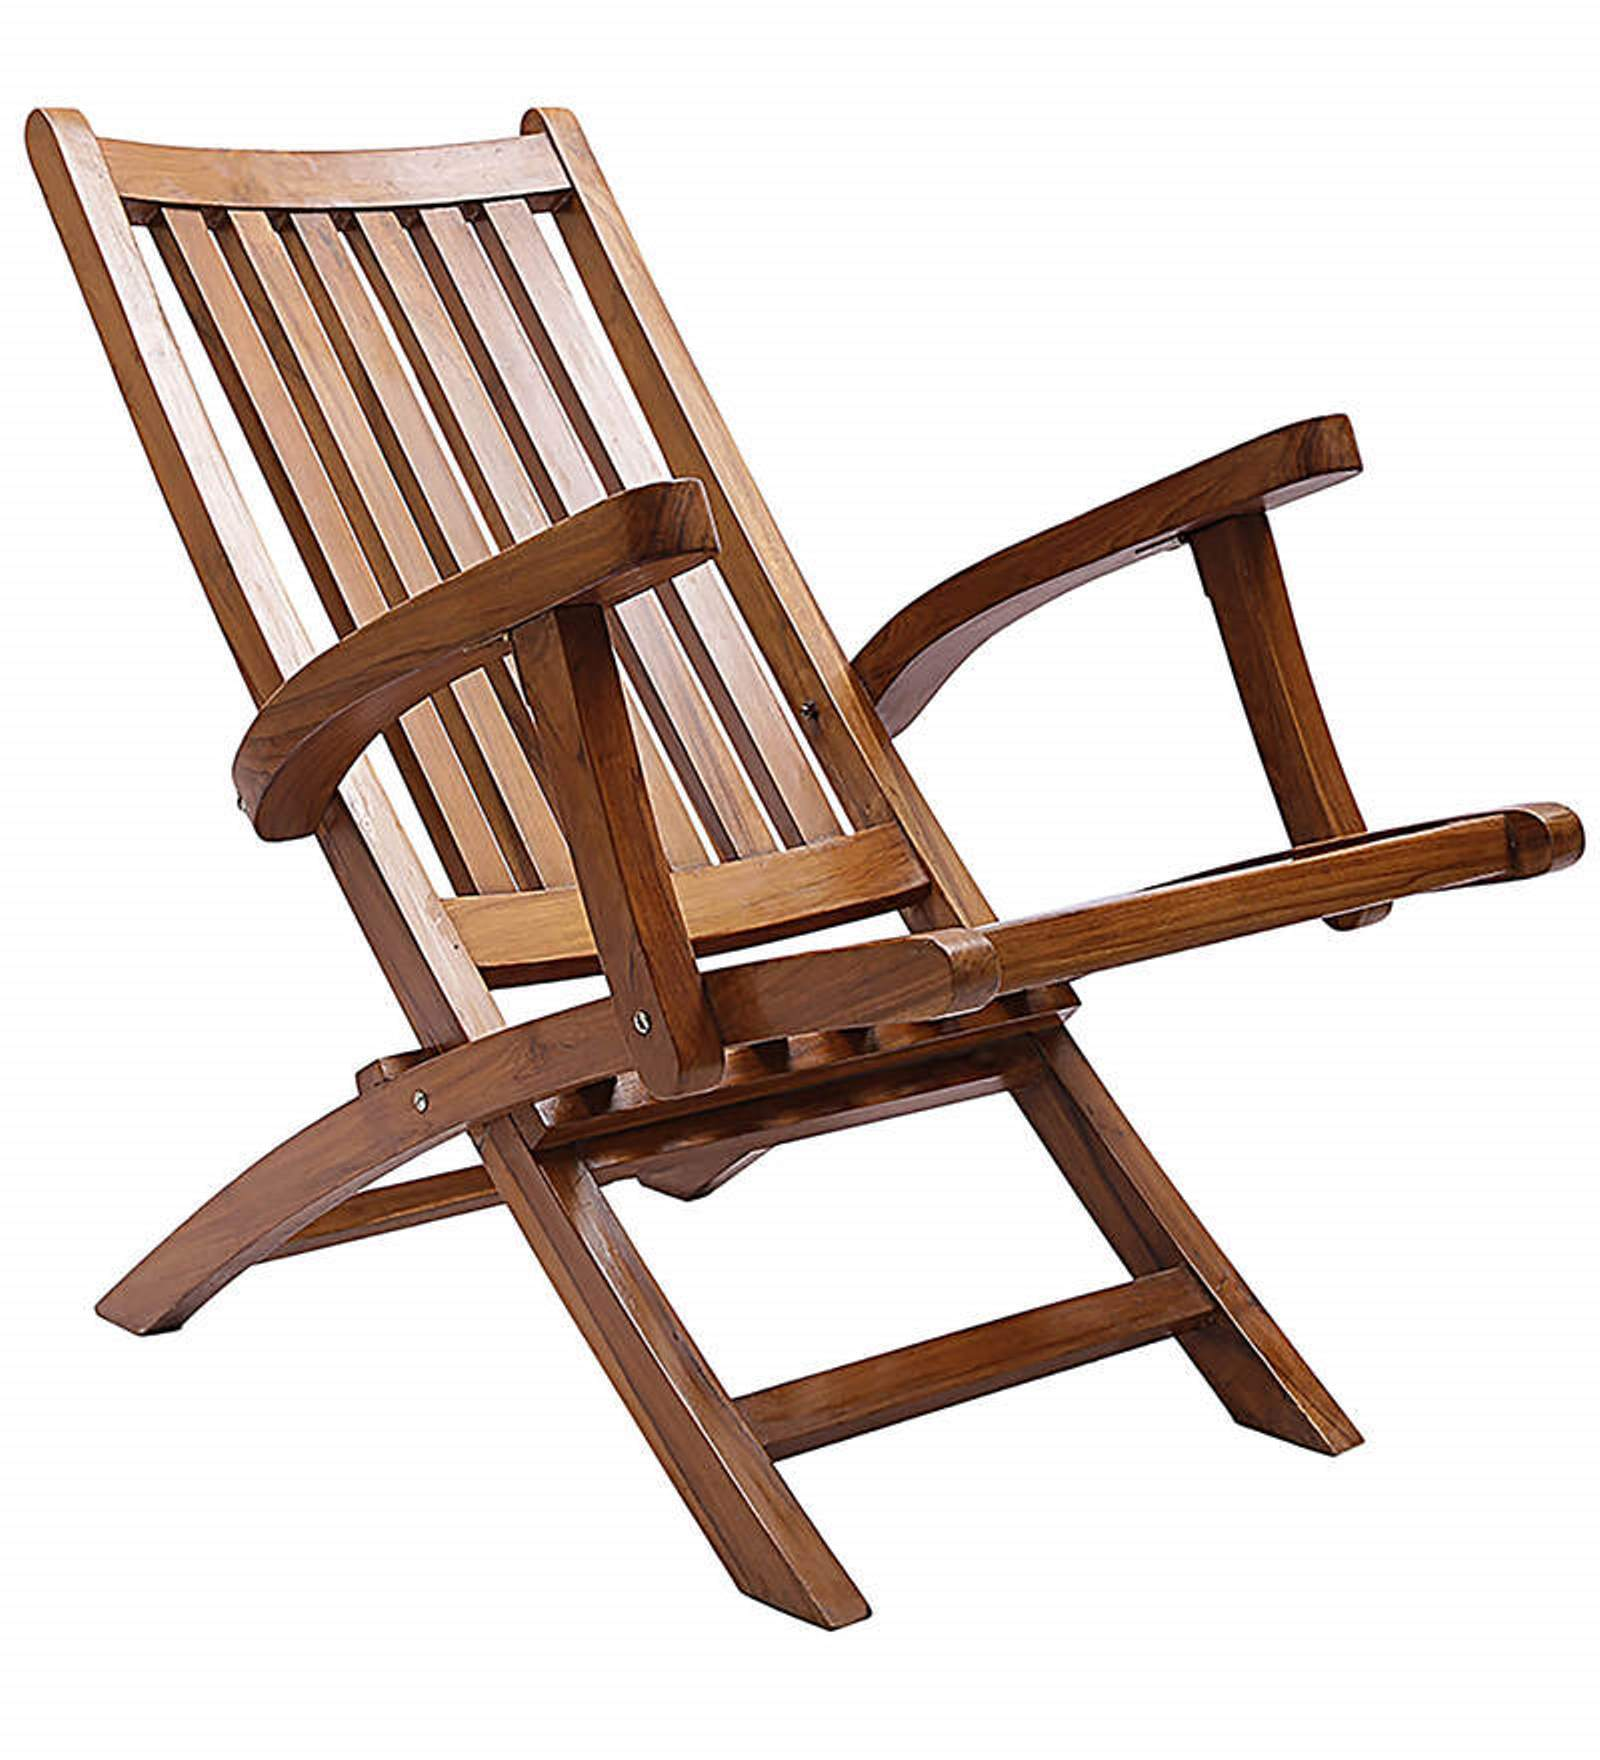Omak Teak Wood Folding Chair in Natural Teak Finish by Finesse: (11, 100, 1585, 1637)
